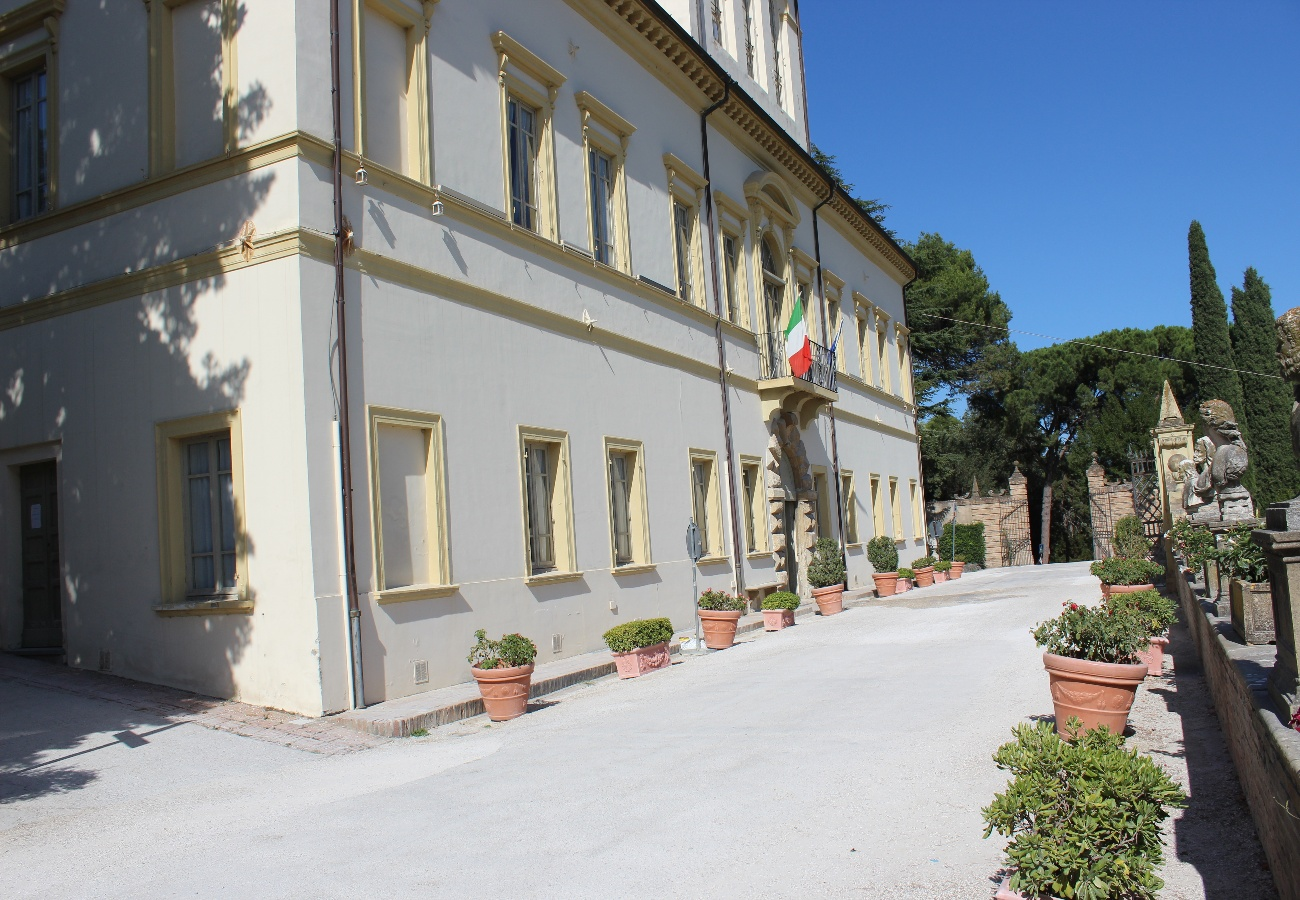Villa Caprile: (324, 1, 930, 757)
